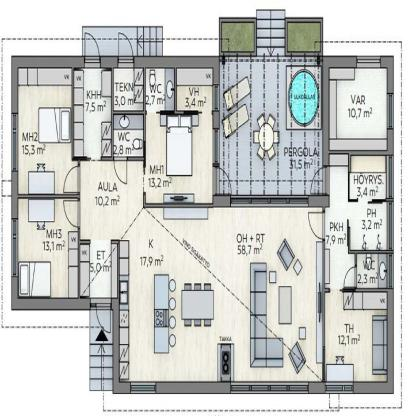door: (117, 32, 135, 70), (84, 31, 101, 69), (342, 266, 361, 295), (306, 212, 326, 239), (63, 167, 82, 194), (311, 167, 330, 194), (97, 304, 113, 336), (63, 202, 80, 228), (218, 169, 233, 198), (114, 156, 127, 189)
window: (230, 194, 309, 209), (231, 384, 309, 396), (388, 153, 394, 289), (11, 219, 18, 278), (12, 114, 19, 172), (131, 381, 156, 397), (356, 54, 381, 66), (326, 384, 353, 394), (388, 94, 395, 131)
zone: (116, 212, 323, 380), (220, 11, 322, 196), (79, 158, 146, 296), (146, 70, 213, 202), (18, 68, 80, 196), (18, 200, 77, 298), (327, 291, 385, 381), (330, 66, 388, 149), (325, 154, 357, 289), (74, 68, 111, 157), (82, 24, 163, 57), (349, 200, 388, 254), (89, 308, 112, 391), (350, 155, 386, 201), (114, 68, 142, 111), (114, 113, 142, 156), (355, 254, 387, 288)
